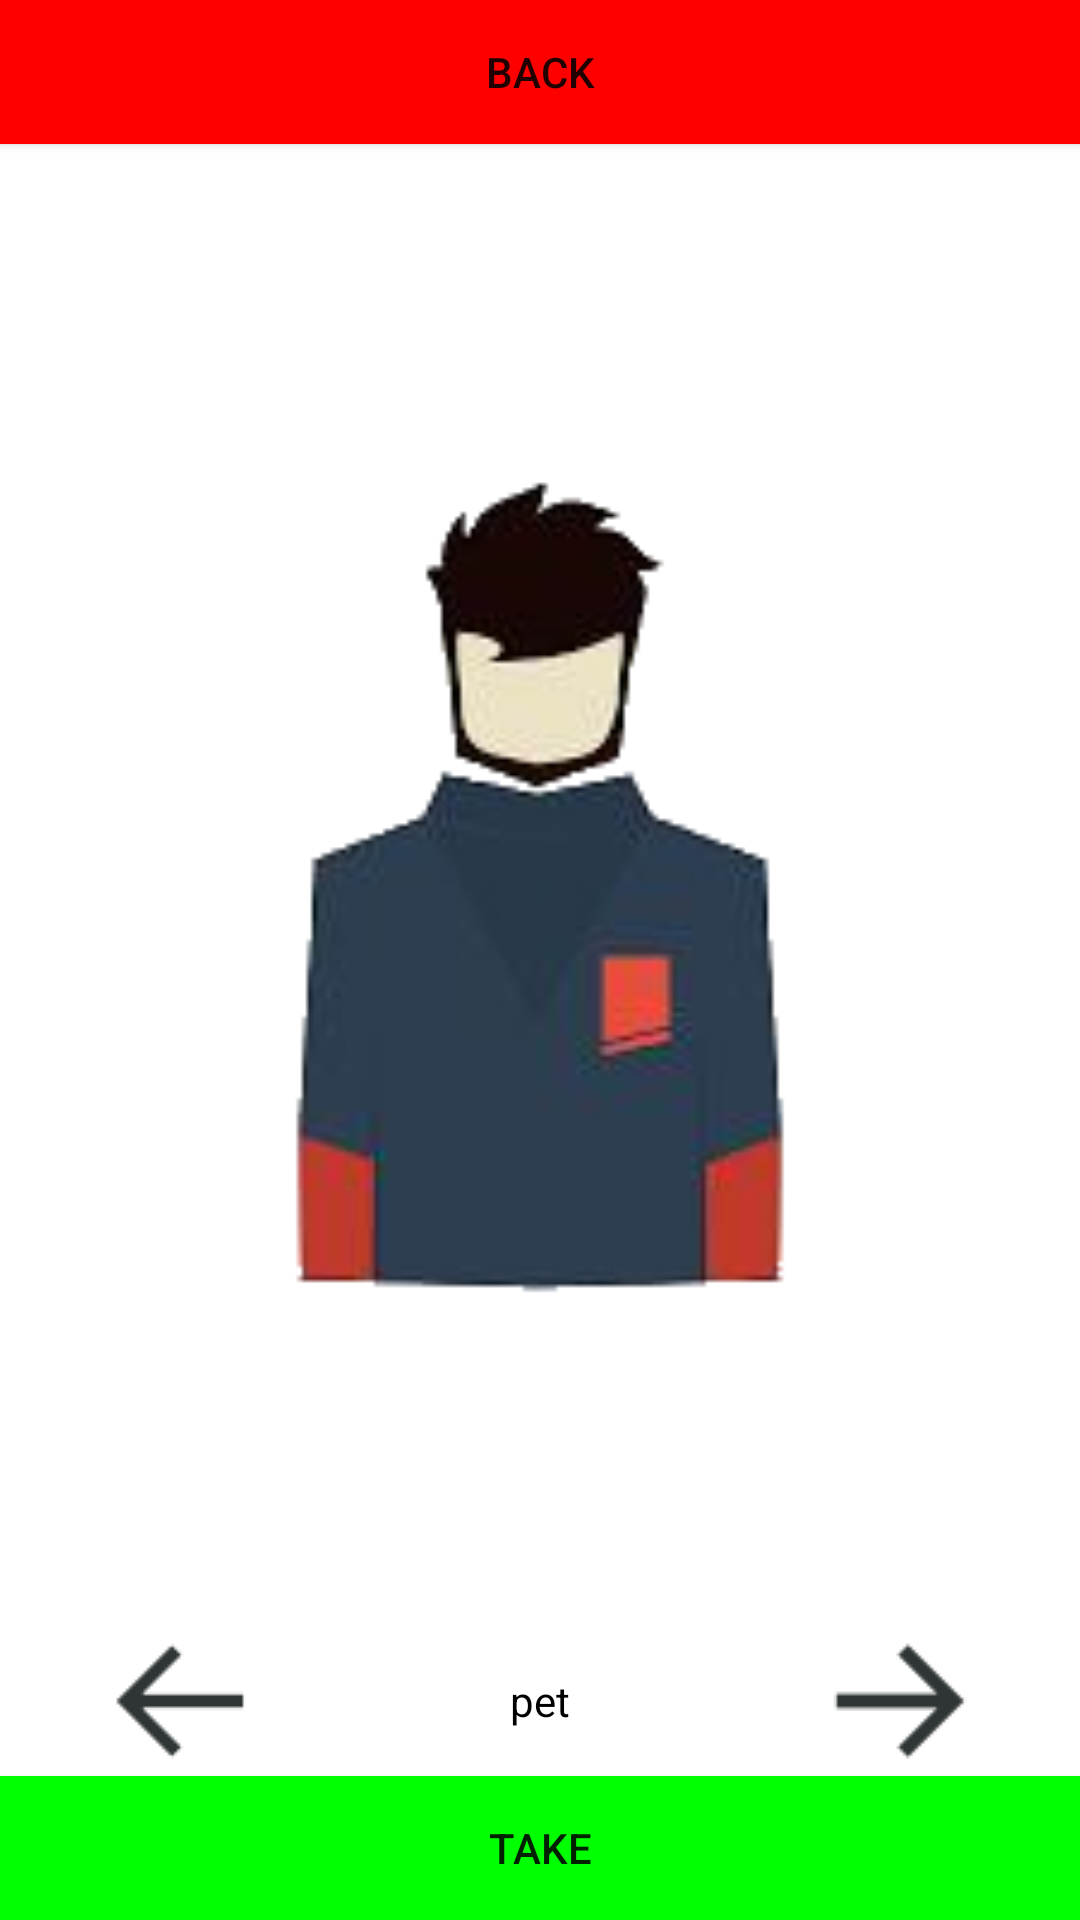

Named icons in this screenshot (1080*1920) and their bounding boxes, (x1, y1, x2, y2):
left: (116, 1645, 244, 1757)
right: (835, 1643, 964, 1759)
